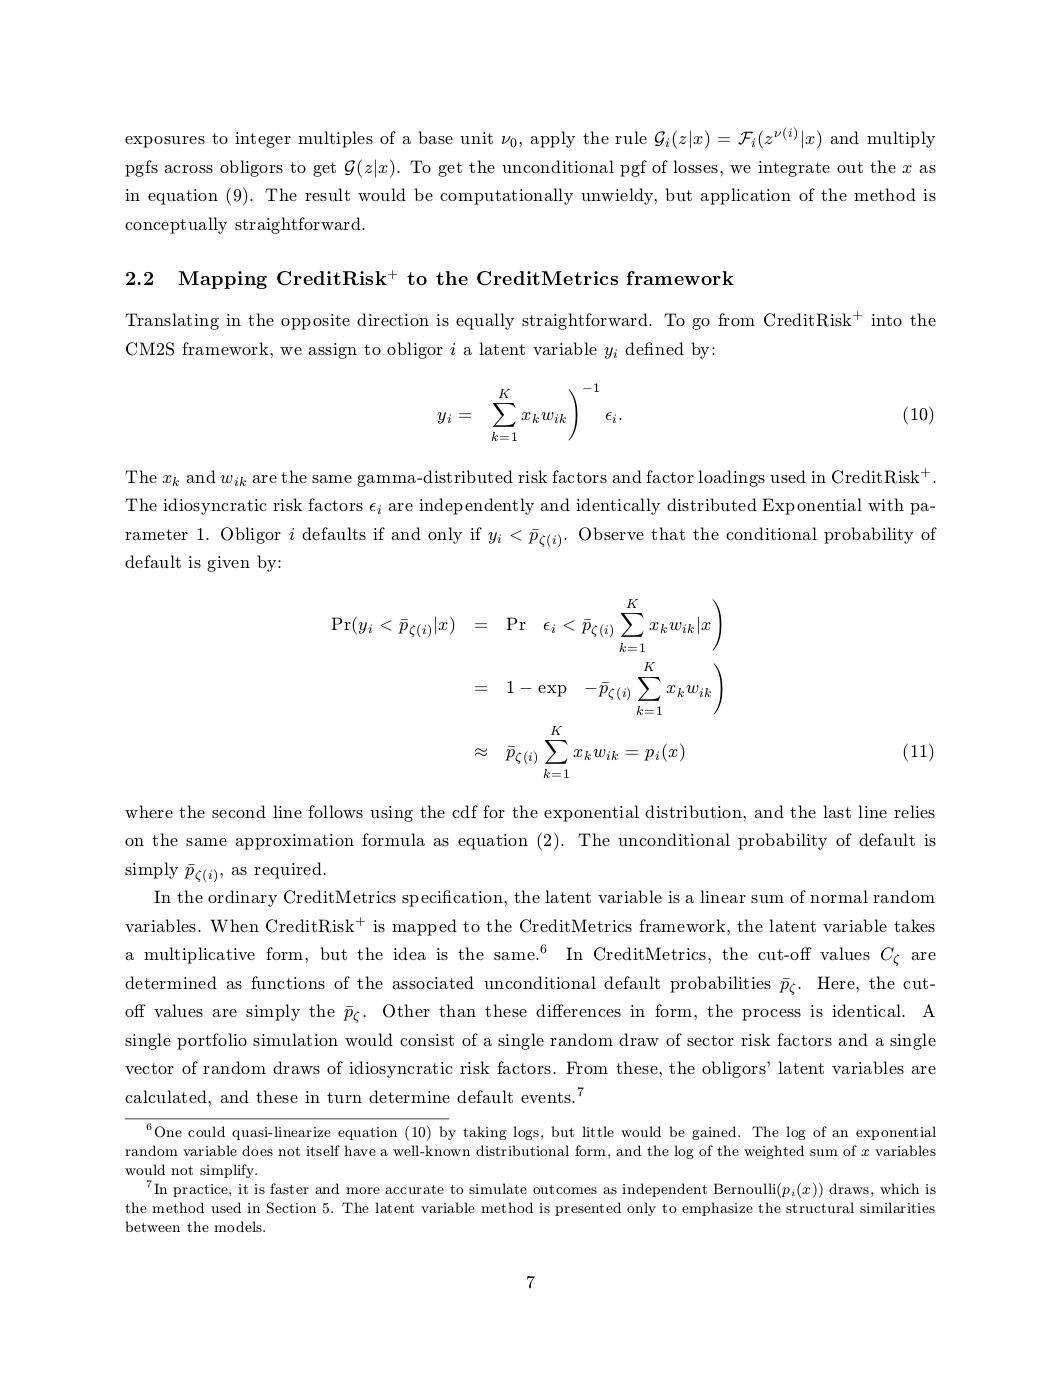formula: (437, 382, 933, 441), (475, 726, 933, 777), (331, 598, 721, 652), (475, 661, 722, 715)
